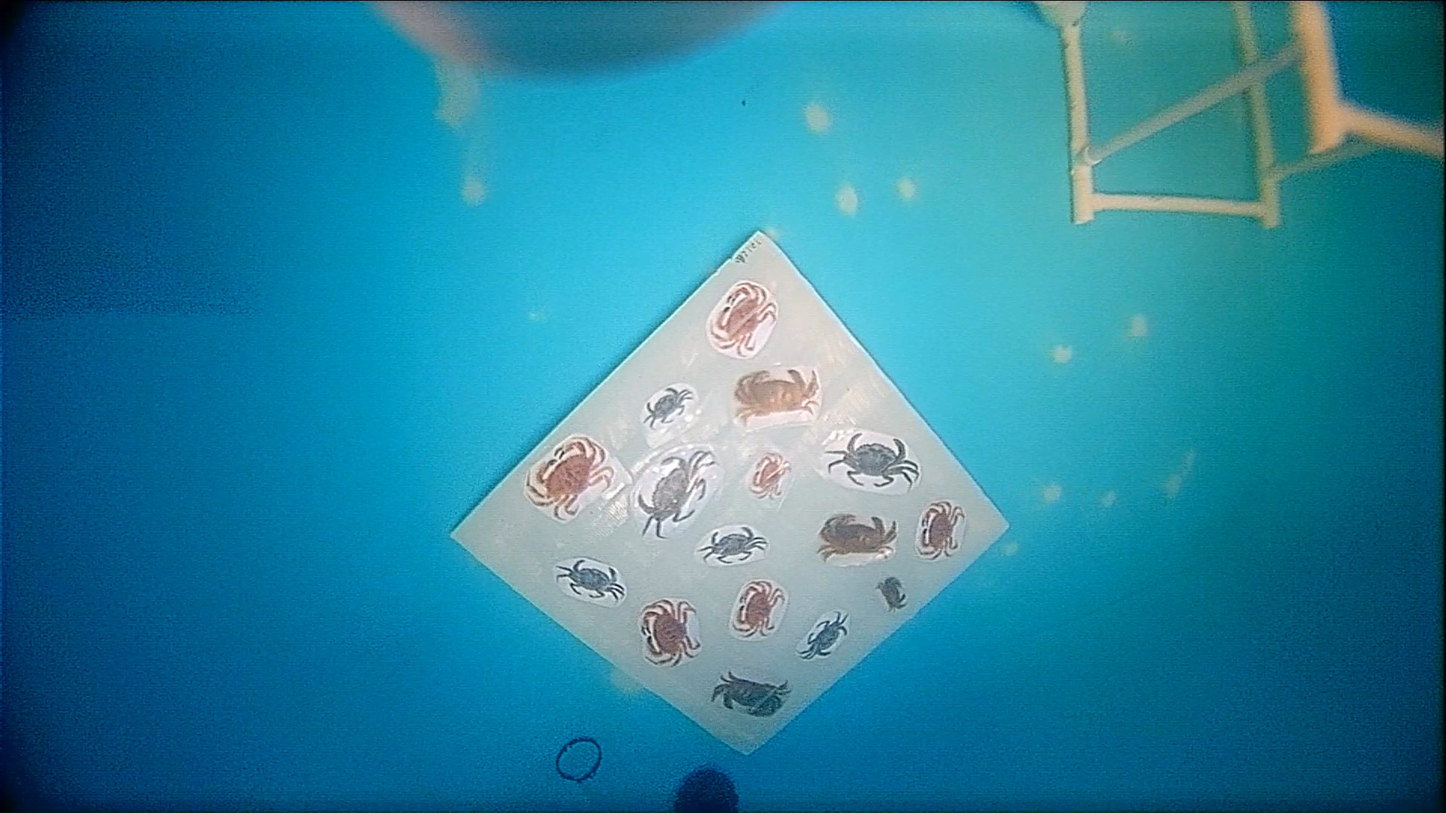GreenCrab: (637, 450, 714, 538), (827, 433, 918, 487), (557, 559, 624, 599), (699, 526, 766, 563), (645, 387, 692, 428)
